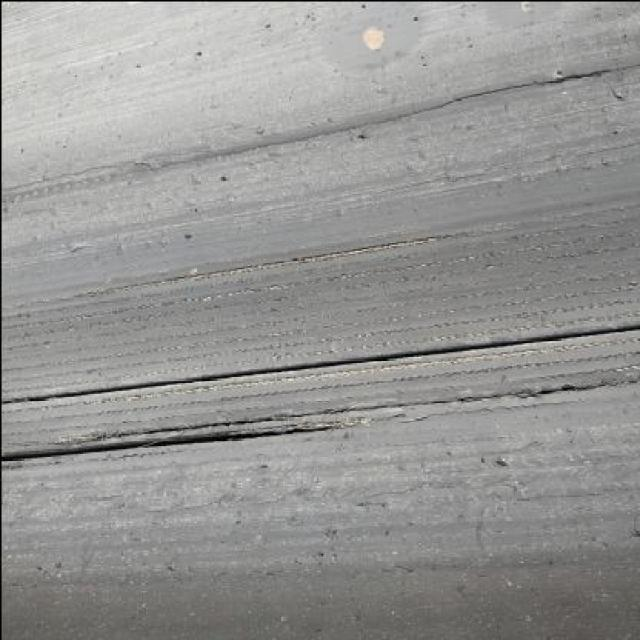Tear: (2, 316, 640, 407), (90, 372, 640, 442), (0, 415, 350, 467), (444, 54, 638, 110)
Wear: (0, 219, 640, 404)
